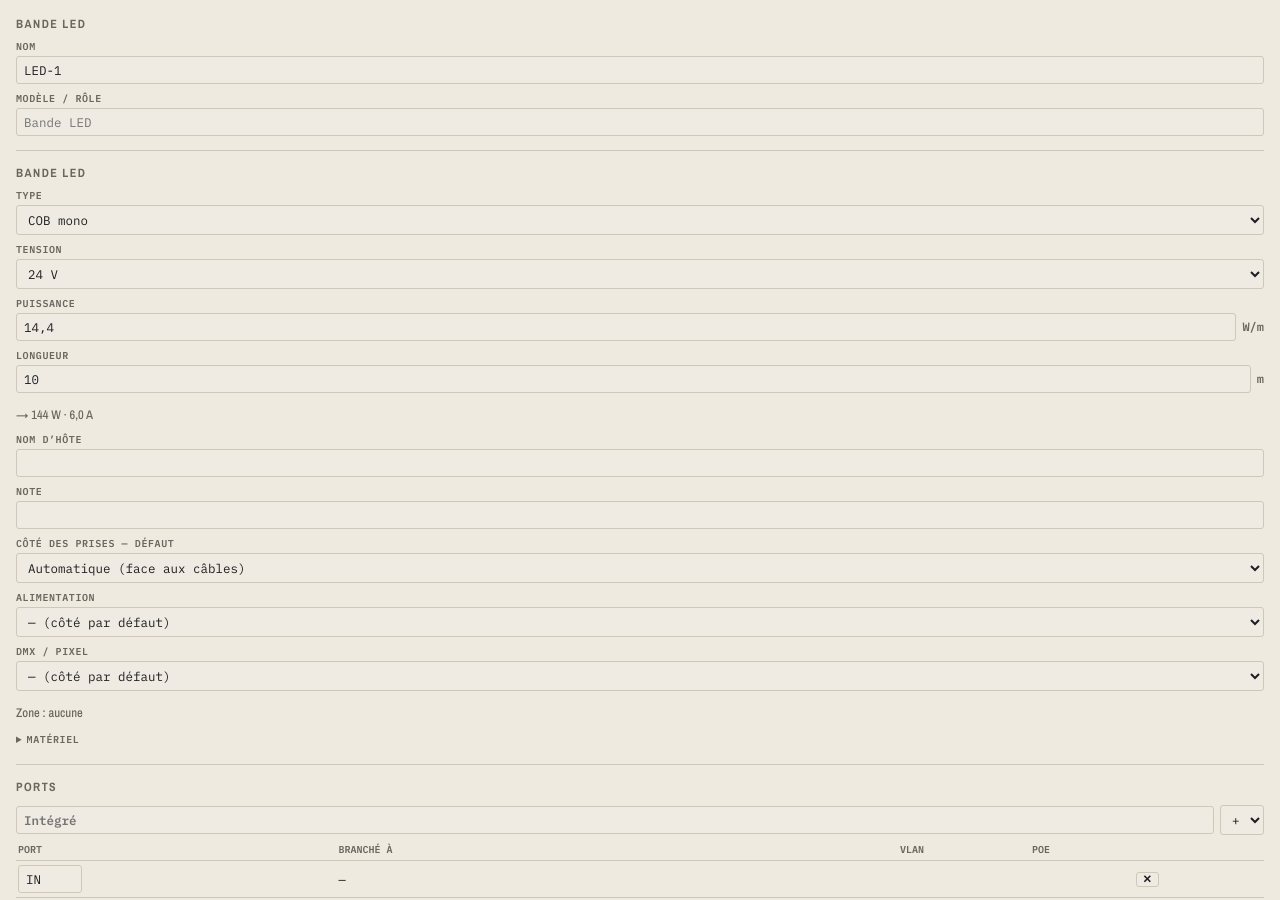
Test: bande LED › vider la longueur rend la puissance « à définir »
Clear the field named "Longueur (m)" at (633, 379), box x1=16 y1=365 x2=1251 y2=393
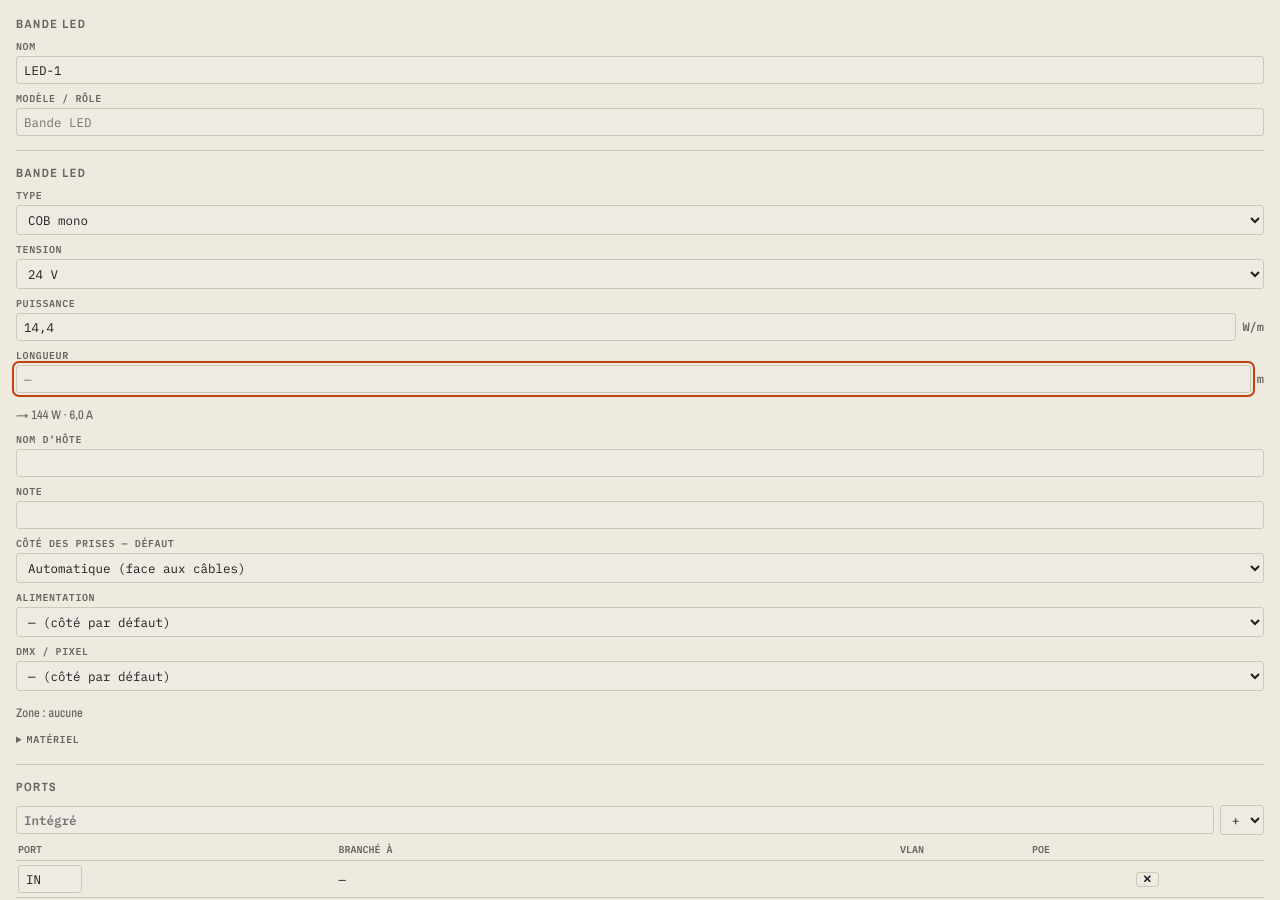
Press Tab
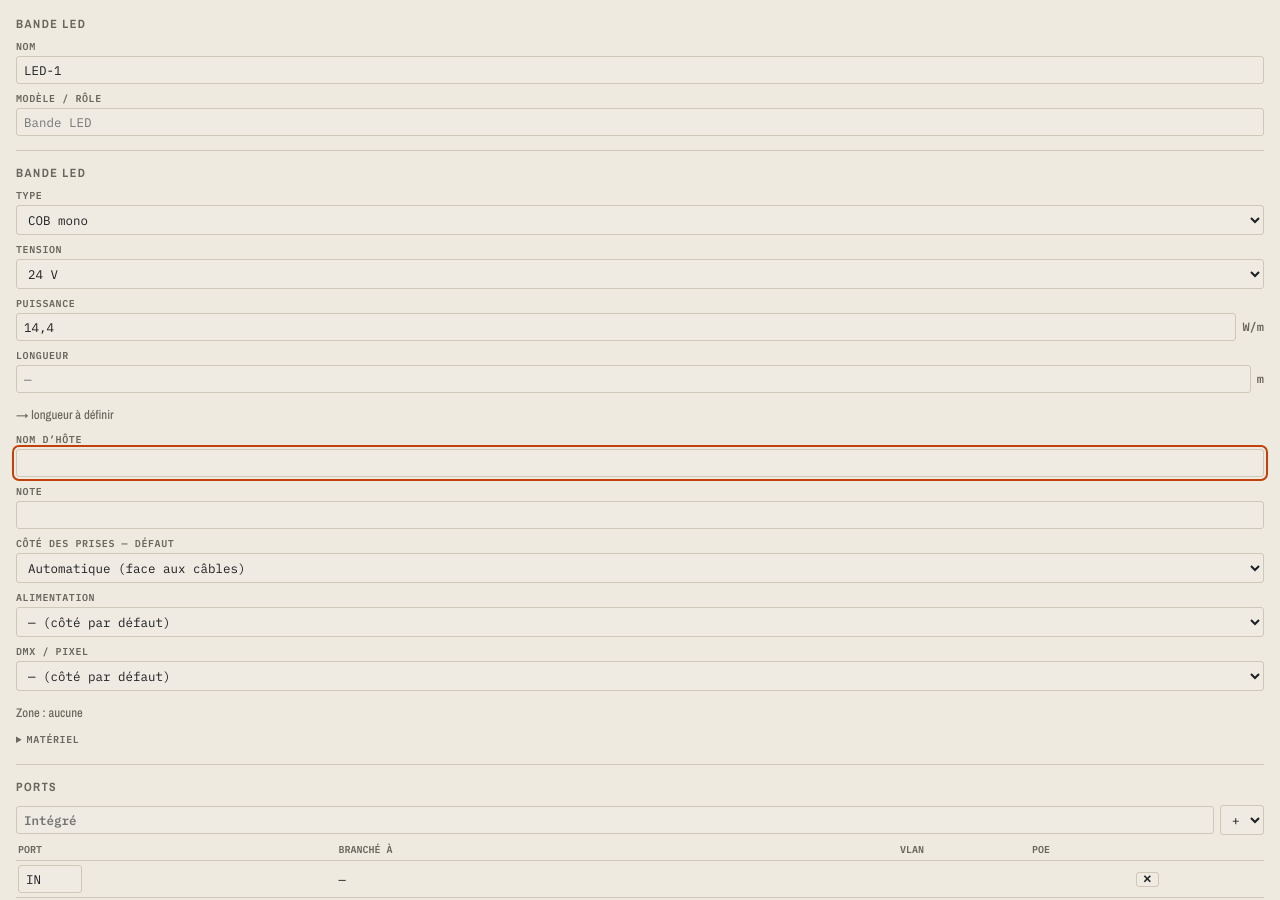
Expected: the text "→ longueur à définir" is shown, x1=16 y1=406 x2=114 y2=422
